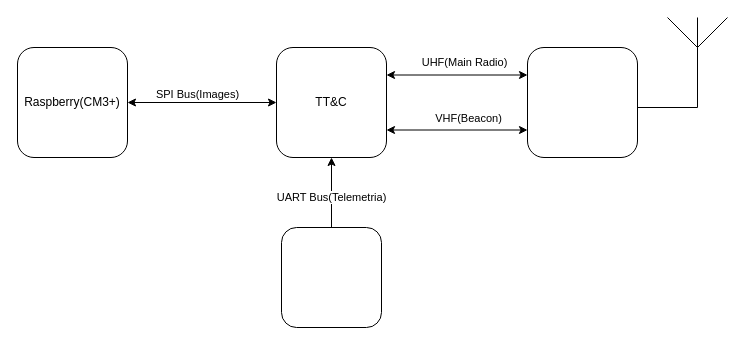
Some shapes in this 746 by 345 pixel diagram are drawn without their labels. Each missing label, with the centre of its shape:
Antenna Module: point (582, 102)
EPS: point (331, 277)
